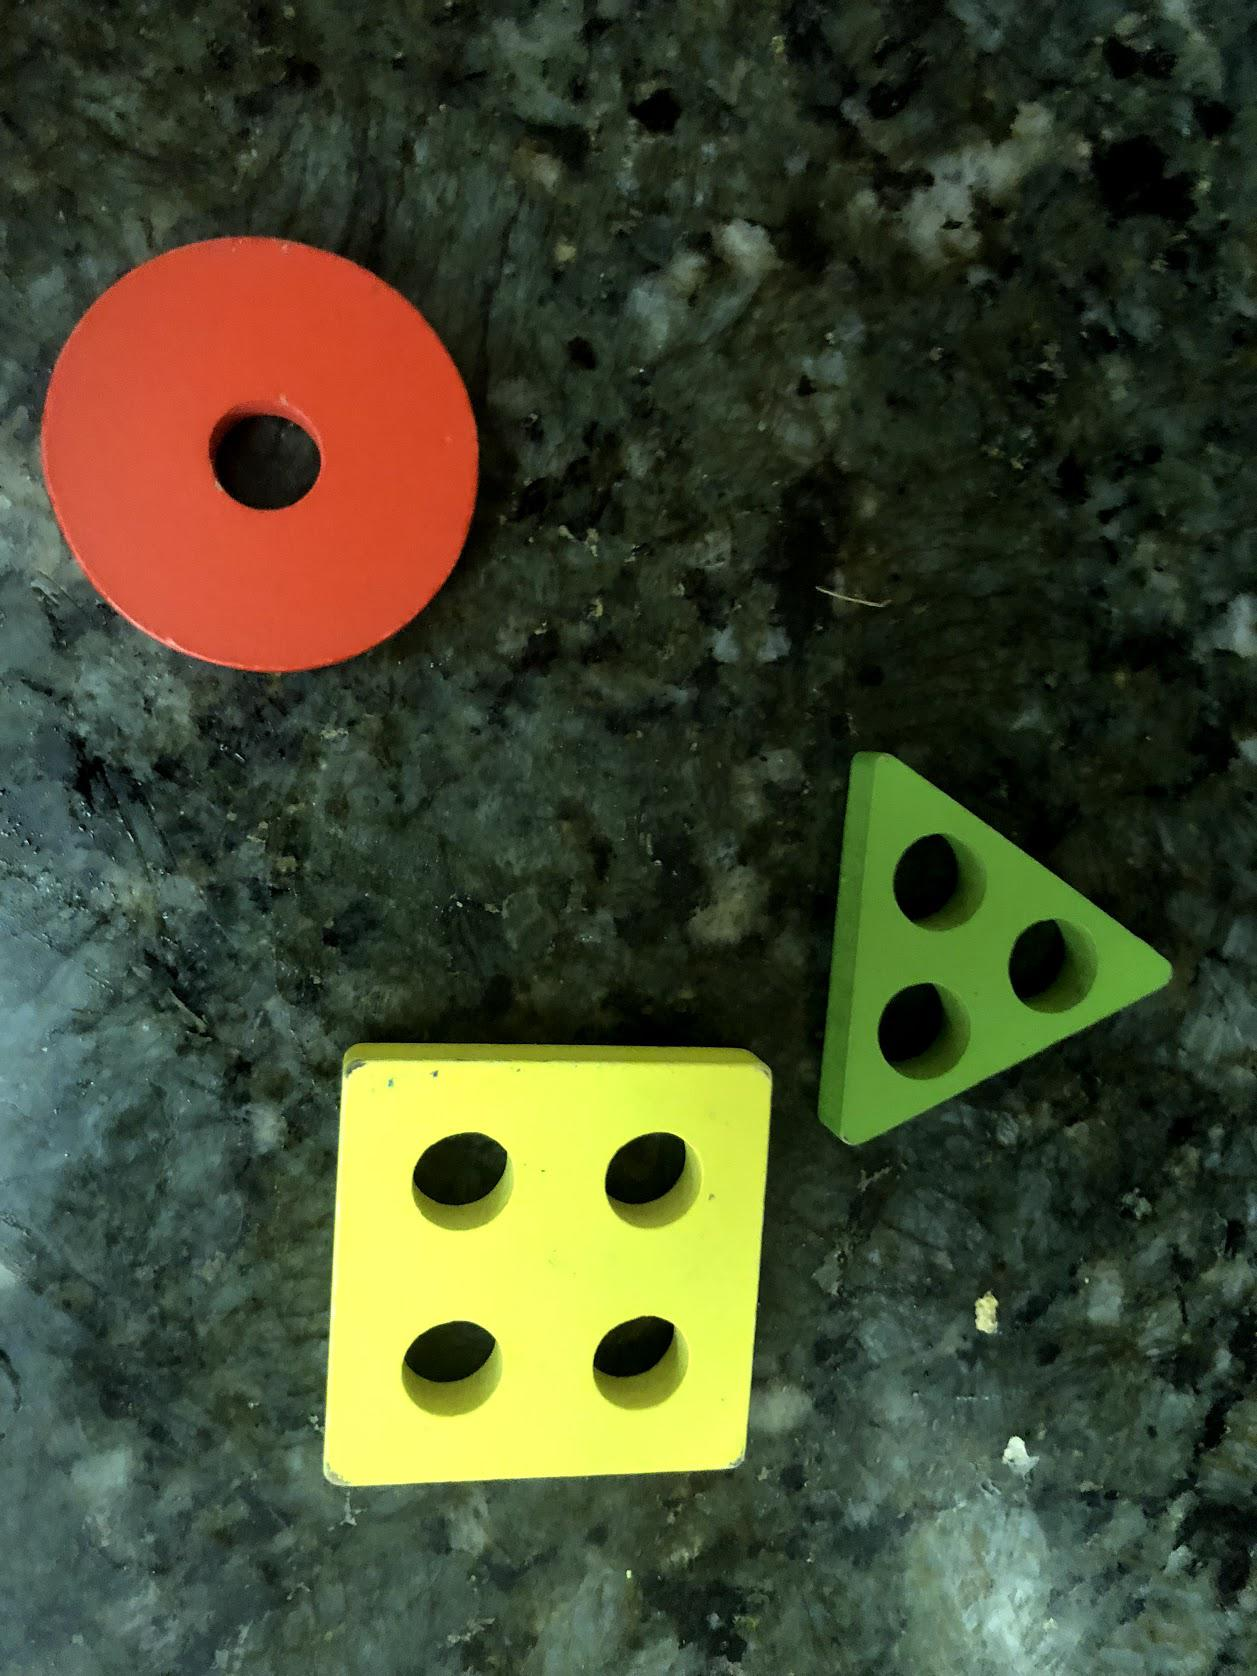Circle: (40, 232, 487, 670)
Square: (331, 1050, 779, 1485)
Triangle: (831, 750, 1176, 1149)
